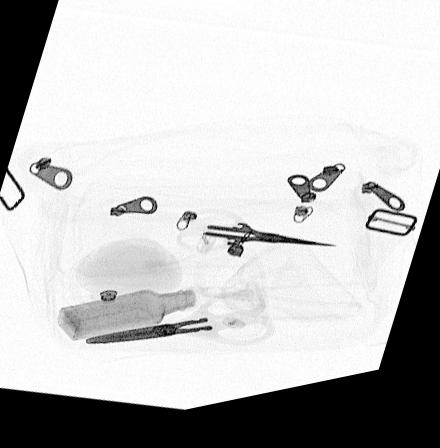Scissors: (82, 292, 278, 359), (171, 212, 343, 263)
